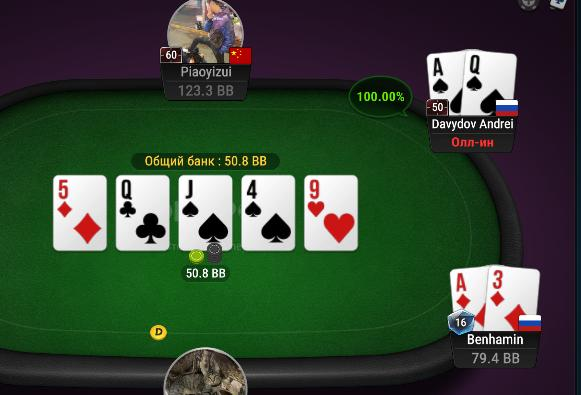3d: (487, 263, 538, 329)
4s: (241, 175, 295, 251)
5d: (55, 175, 105, 251)
9h: (305, 175, 359, 251)
Ad: (451, 267, 488, 330)
As: (426, 51, 464, 118)
Js: (179, 175, 232, 251)
Qc: (116, 177, 168, 248)
Qs: (462, 51, 517, 116)
